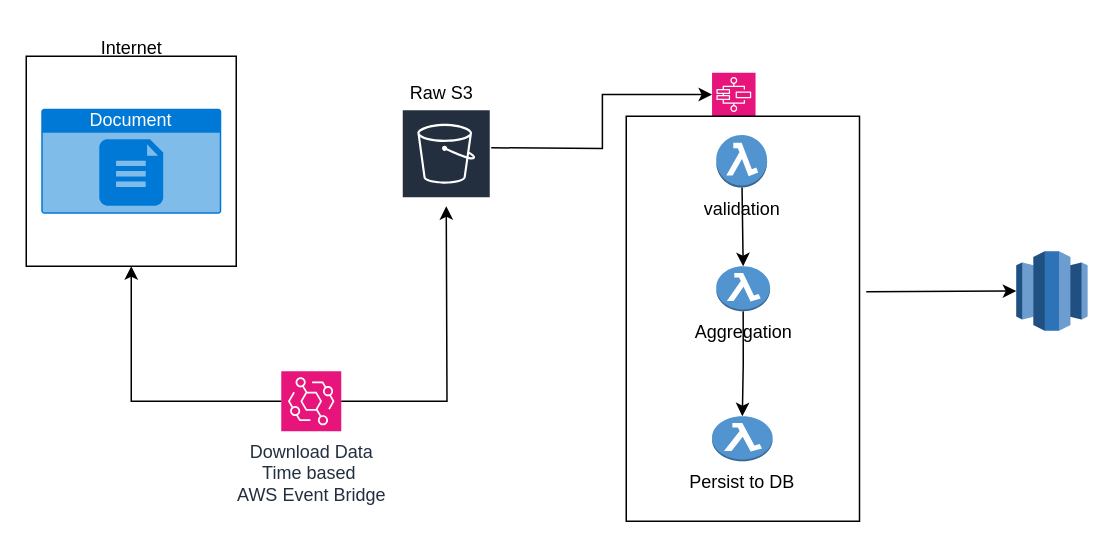
Some shapes in this 1115 by 548 pixel diagram are drawn without their labels. Each missing label, with the centre of its shape:
"Amazon S3" goes at [445,123].
"AWS Redshift" goes at [1051,290].
